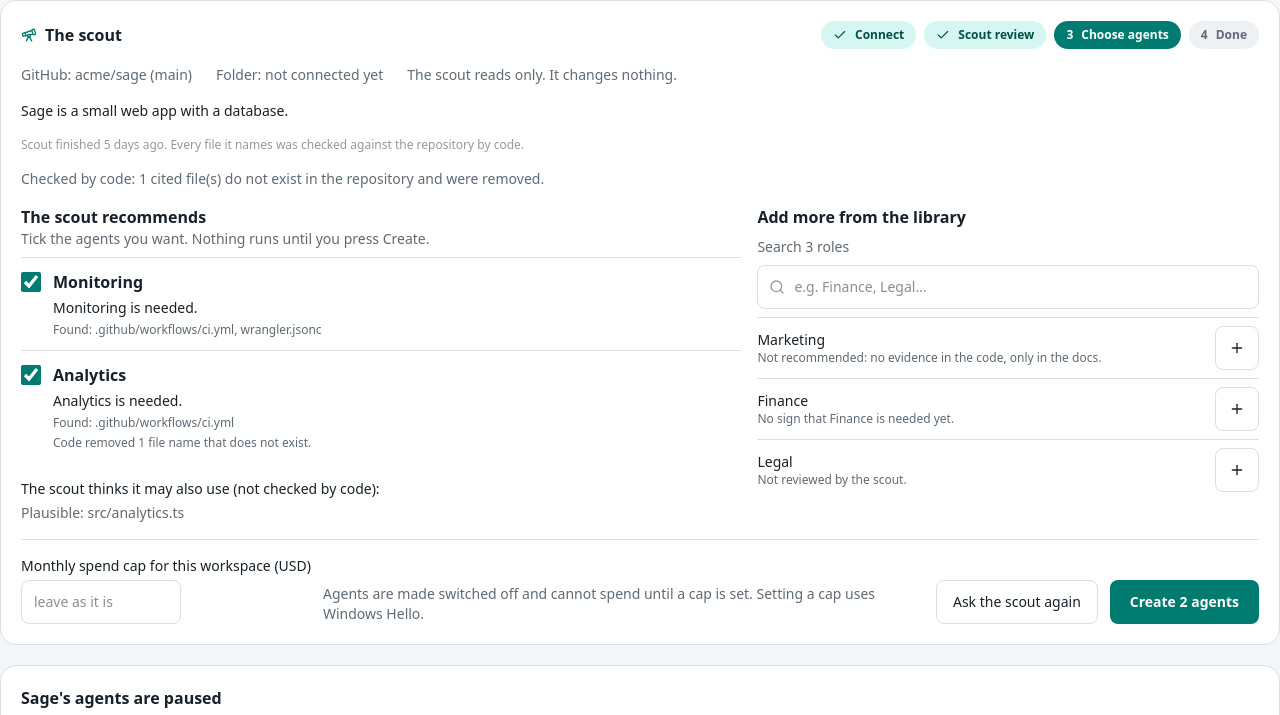
Scenario: the scout on the Agents tab › a typed cap is set after the agents are made, through the Windows Hello path
Click the checkbox labelled "Analytics" at (31, 375), box x1=21 y1=365 x2=41 y2=385
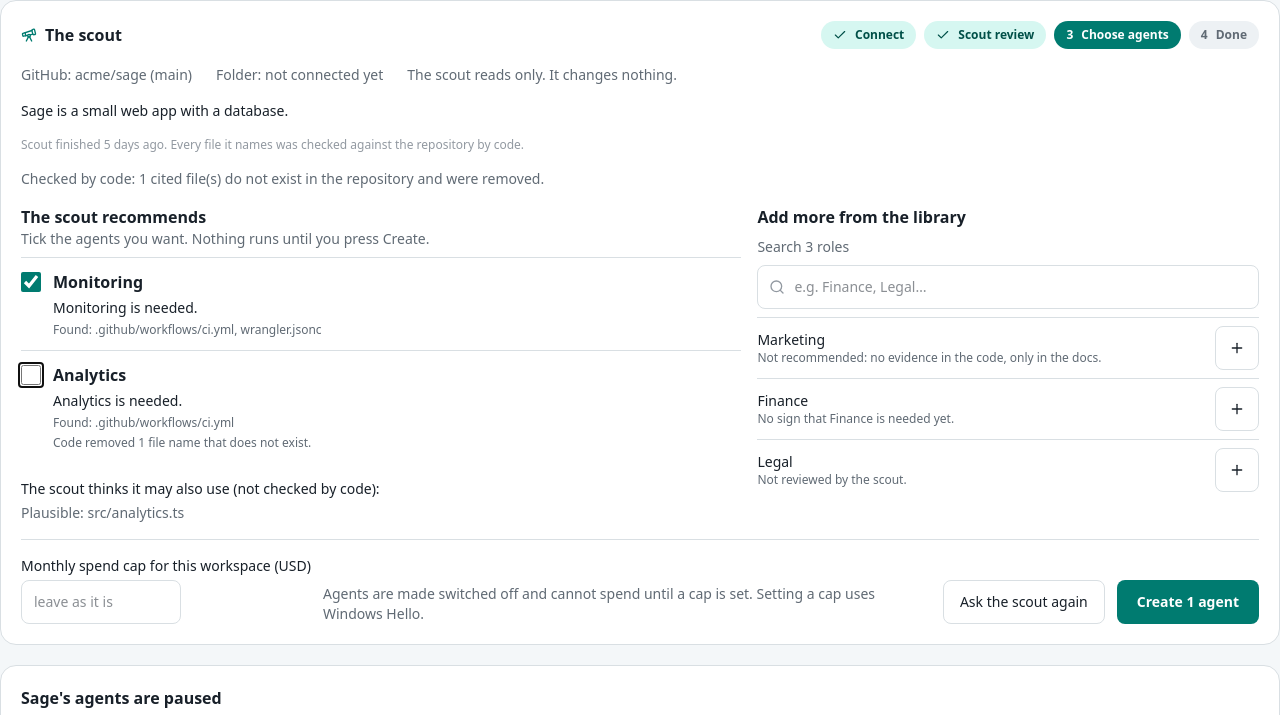
Type "20" into the field labelled "Monthly spend cap for this workspace (USD)" at (101, 602), box x1=21 y1=580 x2=181 y2=624
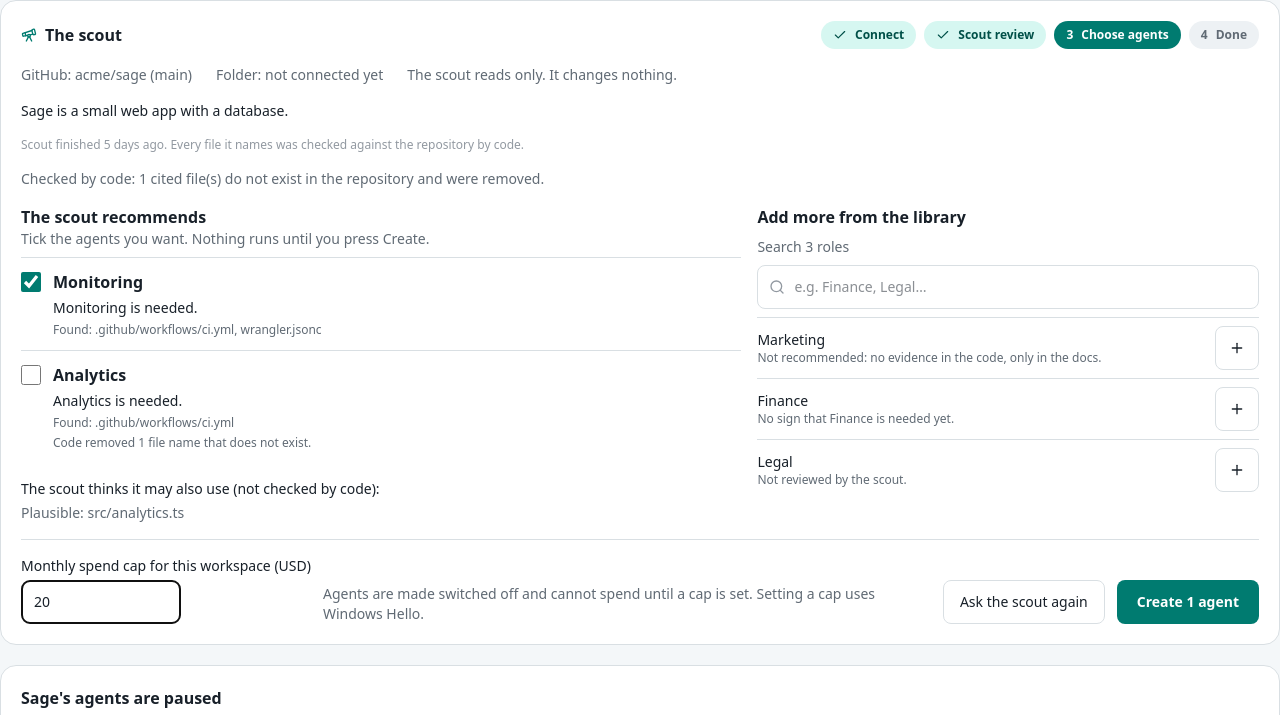
Click the button "Create 1 agent" at (1188, 602), box x1=1117 y1=580 x2=1259 y2=624
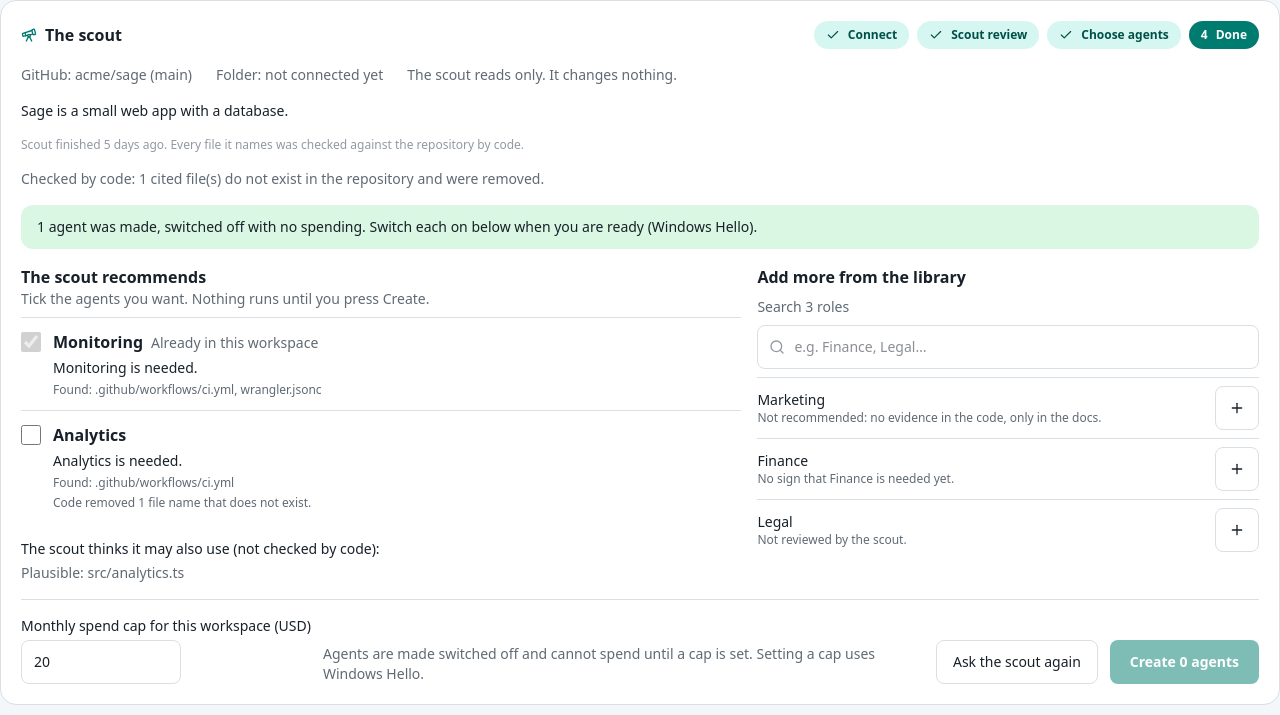
Result: the text "1 agent was made" is shown at x1=37 y1=217 x2=157 y2=236
